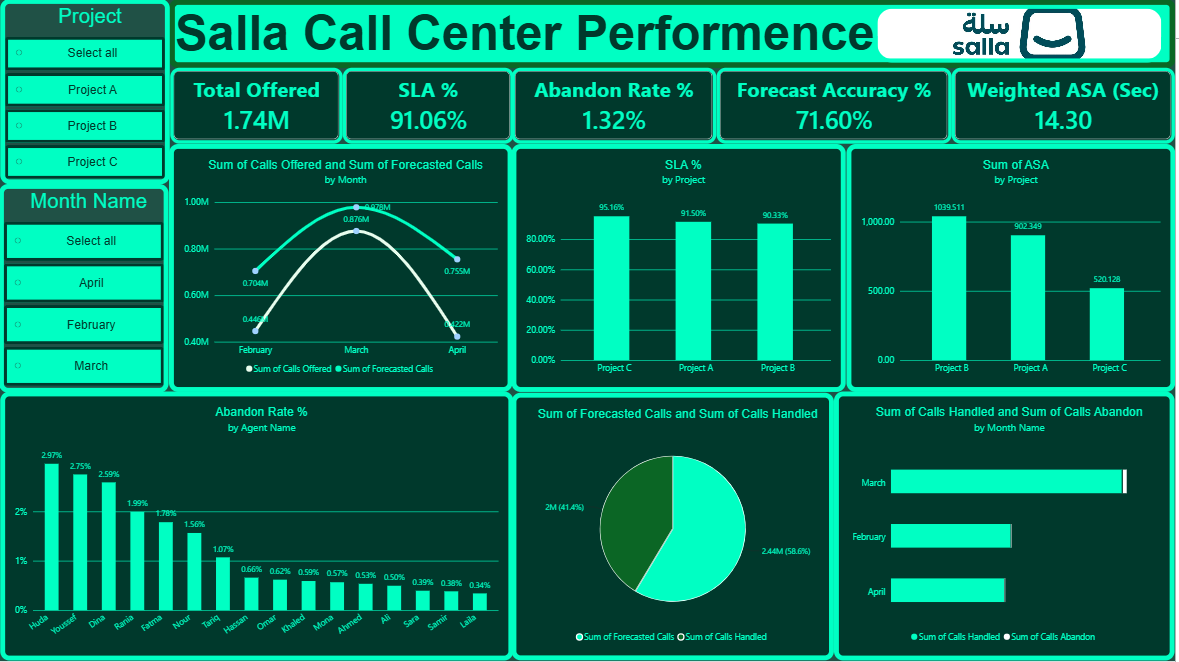

The page's visual inventory and layout, read from the dashboard file:
{"tool":"powerbi","page":{"name":"Page 1","canvas":[1920,1080],"ordinal":0},"visuals":[{"type":"textbox","title":"Salla Call Center Performence","box":[277.1,0,1643.3,113],"z":0},{"type":"advancedSlicerVisual","fields":{"Values":["SALLA.Month Name"]},"box":[0,302.7,277.1,341],"z":1000},{"type":"cardVisual","fields":{"Data":["SALLA.Total Offered"]},"box":[279.2,113,281.4,123.6],"z":2000},{"type":"cardVisual","fields":{"Data":["SALLA.SLA %"]},"box":[560.6,113,279.2,123.6],"z":3000},{"type":"cardVisual","fields":{"Data":["SALLA.Abandon Rate %"]},"box":[837.7,113,334.6,123.6],"z":4000},{"type":"cardVisual","fields":{"Data":["SALLA.Forecast Accuracy %"]},"box":[1172.3,113,383.7,123.6],"z":5000},{"type":"lineChart","fields":{"Category":["SALLA.Date.Variation.Date Hierarchy.Month","SALLA.Date.Variation.Date Hierarchy.Day"],"Y":["Sum(SALLA.Calls Offered)","Sum(SALLA.Forecasted Calls)"]},"box":[277.1,236.6,560.6,405],"z":6000},{"type":"advancedSlicerVisual","fields":{"Values":["SALLA.Project"]},"box":[2.1,0,277.1,302.7],"z":7000},{"type":"clusteredColumnChart","fields":{"Category":["SALLA.Project"],"Y":["SALLA.SLA %"]},"box":[837.7,236.6,545.7,405],"z":8000},{"type":"clusteredColumnChart","fields":{"Category":["SALLA.Project"],"Y":["Sum(SALLA.ASA)"]},"box":[1383.3,236.6,537.1,405],"z":9000},{"type":"clusteredColumnChart","fields":{"Category":["SALLA.Agent Name"],"Y":["SALLA.Abandon Rate %"]},"box":[2.1,641.6,837.7,439.1],"z":10000},{"type":"cardVisual","fields":{"Data":["SALLA.Weighted ASA (sec)"]},"box":[1556,113,364.5,123.6],"z":11000},{"type":"pieChart","fields":{"Y":["Sum(SALLA.Forecasted Calls)","Sum(SALLA.Calls Handled)"]},"box":[837.7,643.7,526.5,436.9],"z":12000},{"type":"barChart","fields":{"Category":["SALLA.Month Name"],"Y":["Sum(SALLA.Calls Handled)","Sum(SALLA.Calls Abandon)"]},"box":[1364.1,641.6,556.3,439.1],"z":13000},{"type":"image","box":[1428.1,10.7,475.3,93.8],"z":14000}]}

Visuals, with their boxes in screenshot pixels (x1, y1, x2, y2), scaled from the page's 1920x1080 canvas onto the 1179x662 screenshot:
"Salla Call Center Performence" textbox: locate(170, 0, 1178, 69)
advancedSlicerVisual - SALLA.Month Name: locate(0, 186, 170, 395)
cardVisual - SALLA.Total Offered: locate(171, 69, 344, 145)
cardVisual - SALLA.SLA %: locate(344, 69, 516, 145)
cardVisual - SALLA.Abandon Rate %: locate(514, 69, 720, 145)
cardVisual - SALLA.Forecast Accuracy %: locate(720, 69, 955, 145)
lineChart - SALLA.Date.Variation.Date Hierarchy.Month x SALLA.Date.Variation.Date Hierarchy.Day: locate(170, 145, 514, 393)
advancedSlicerVisual - SALLA.Project: locate(1, 0, 171, 186)
clusteredColumnChart - SALLA.Project x SALLA.SLA %: locate(514, 145, 849, 393)
clusteredColumnChart - SALLA.Project x Sum(SALLA.ASA): locate(849, 145, 1178, 393)
clusteredColumnChart - SALLA.Agent Name x SALLA.Abandon Rate %: locate(1, 393, 516, 661)
cardVisual - SALLA.Weighted ASA (sec): locate(955, 69, 1178, 145)
pieChart - Sum(SALLA.Forecasted Calls) x Sum(SALLA.Calls Handled): locate(514, 395, 838, 661)
barChart - SALLA.Month Name x Sum(SALLA.Calls Handled): locate(838, 393, 1178, 661)
image: locate(877, 7, 1169, 64)
